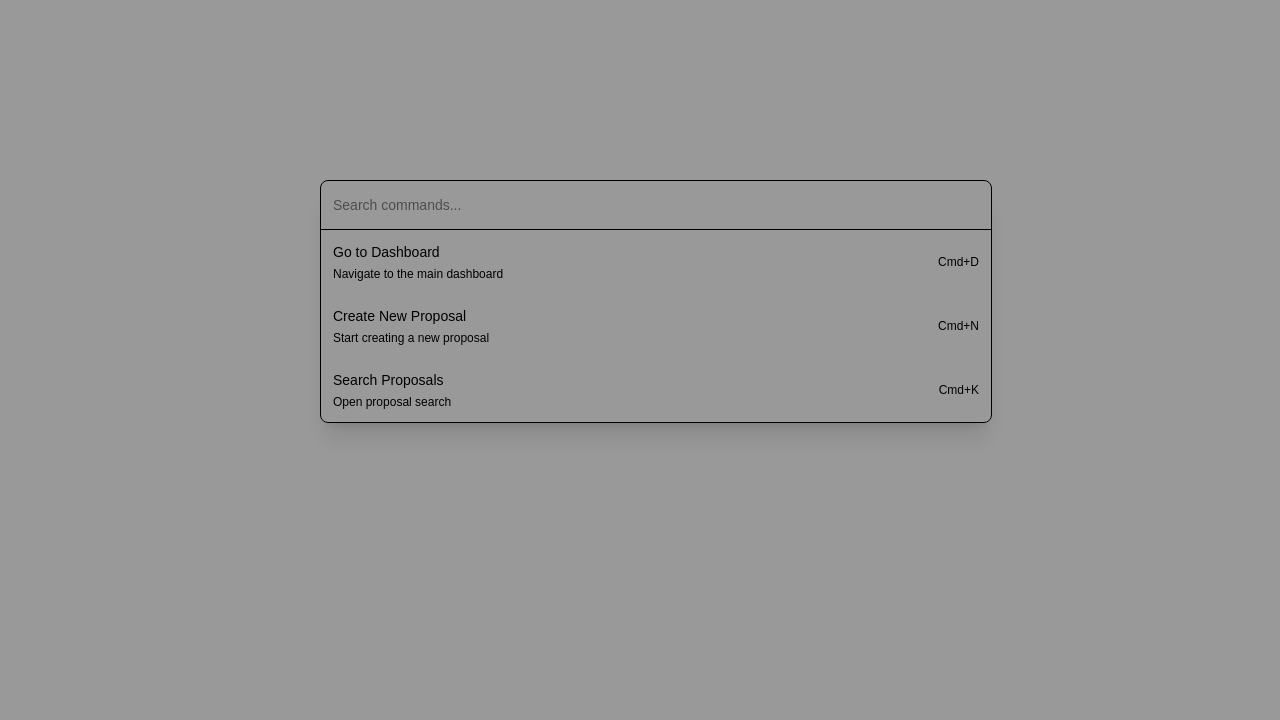
CommandPalette › filters commands by search query
Type "dashboard" into the field with placeholder "Search commands..." at (656, 205), box [333, 195, 979, 215]
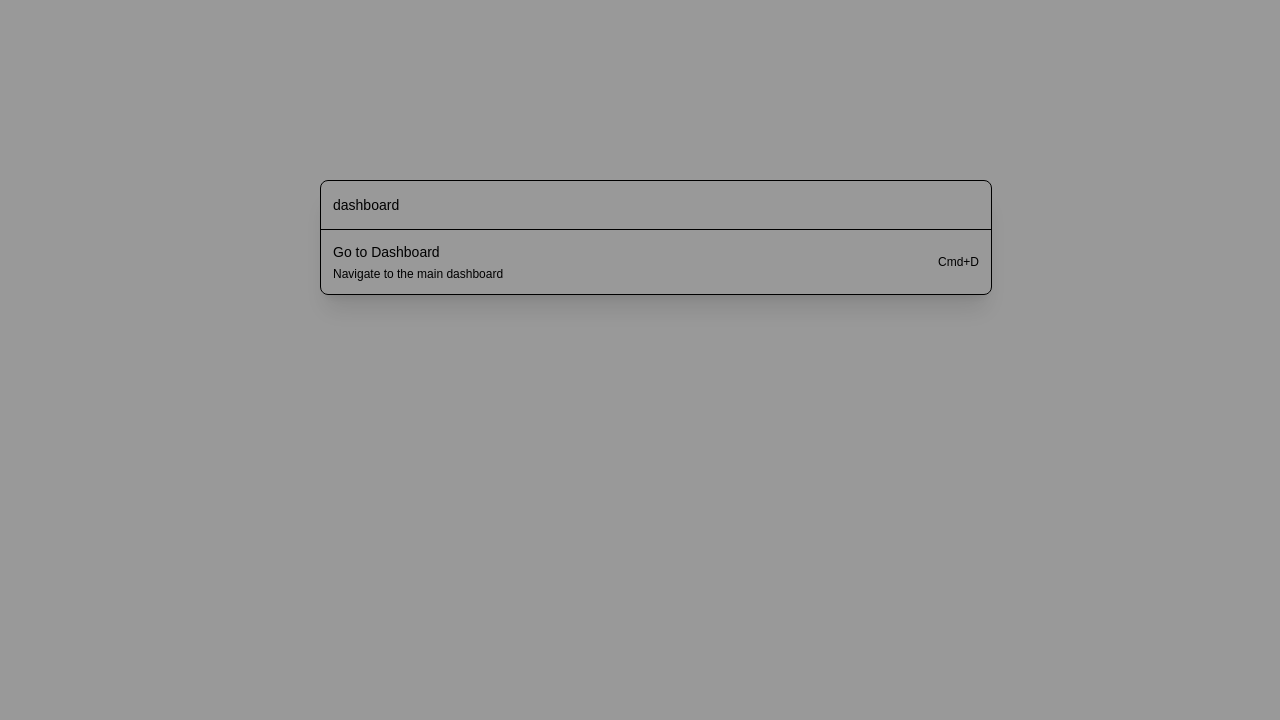
Expected: the text "Go to Dashboard" is shown, [333, 244, 440, 260]
Expected: the option "Create New Proposal" is gone
